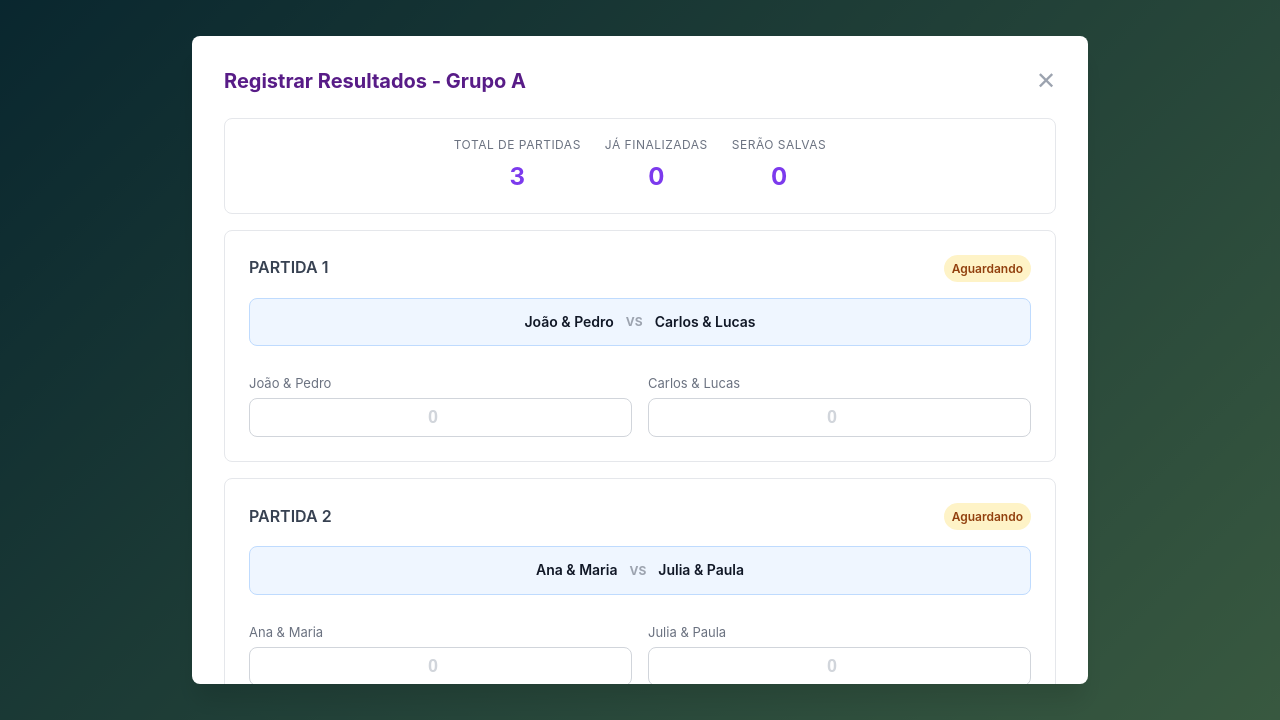
it: ModalLancamentoResultadosLoteReiDaPraia › validação de placares › deve mostrar erro quando apenas segundo placar é preenchido
Type "6" into the 2nd number field with placeholder "0" at (840, 418), box [648, 398, 1031, 437]
(page scrolled)
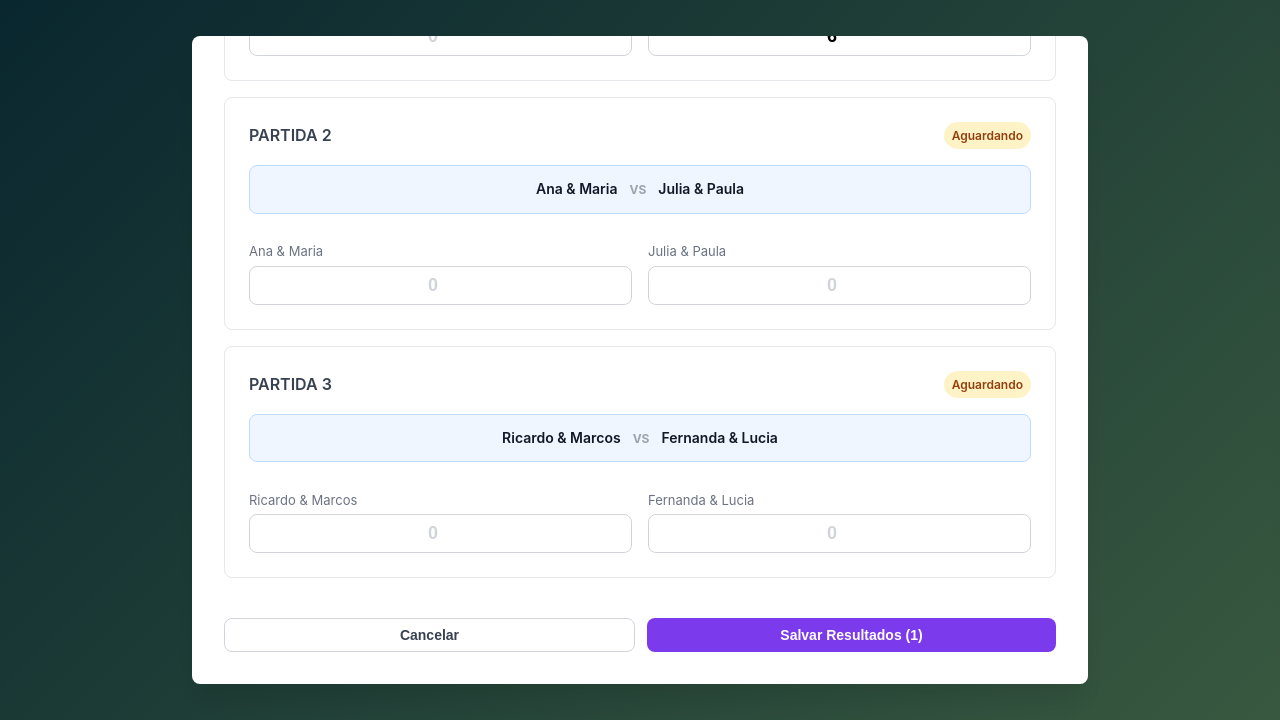
Click the button "Salvar Resultados (1)" at (852, 635), box [647, 618, 1056, 652]
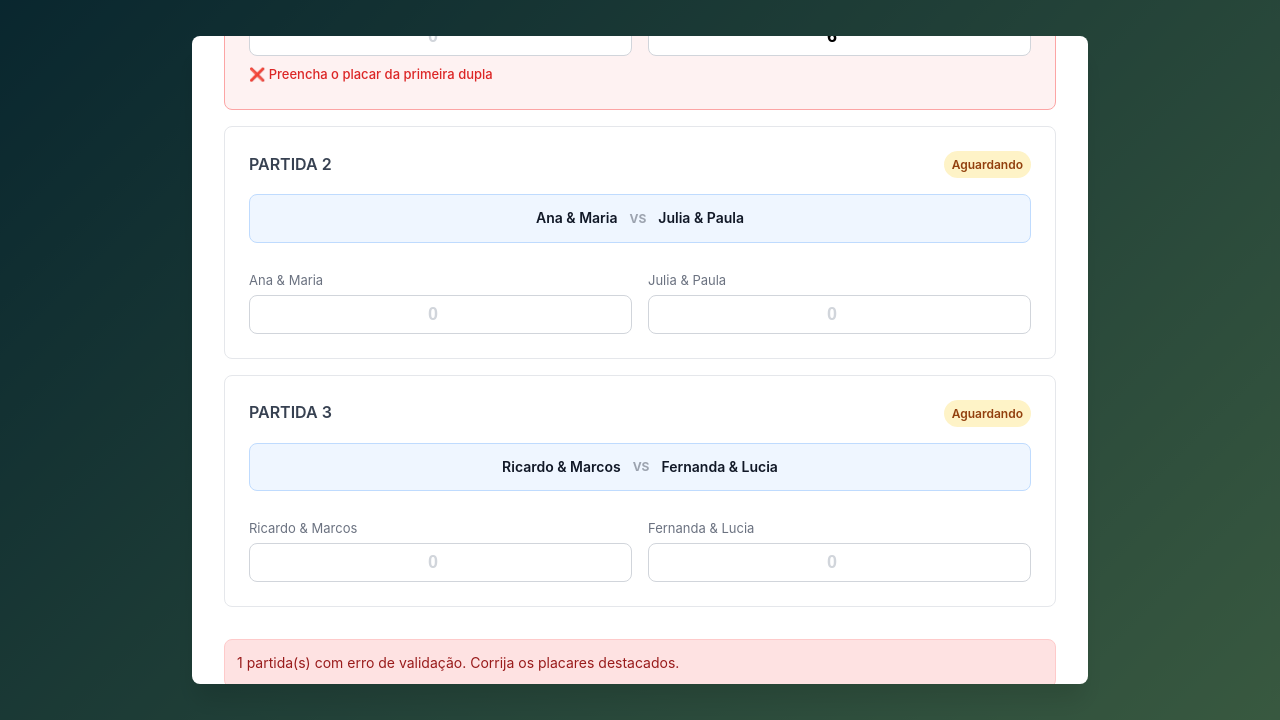
Expected: the text "❌ Preencha o placar da primeira dupla" is shown, [249, 66, 493, 82]
